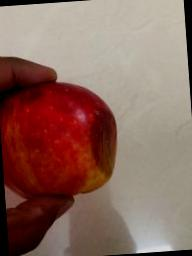Apple Overripe: (0, 74, 124, 205)
